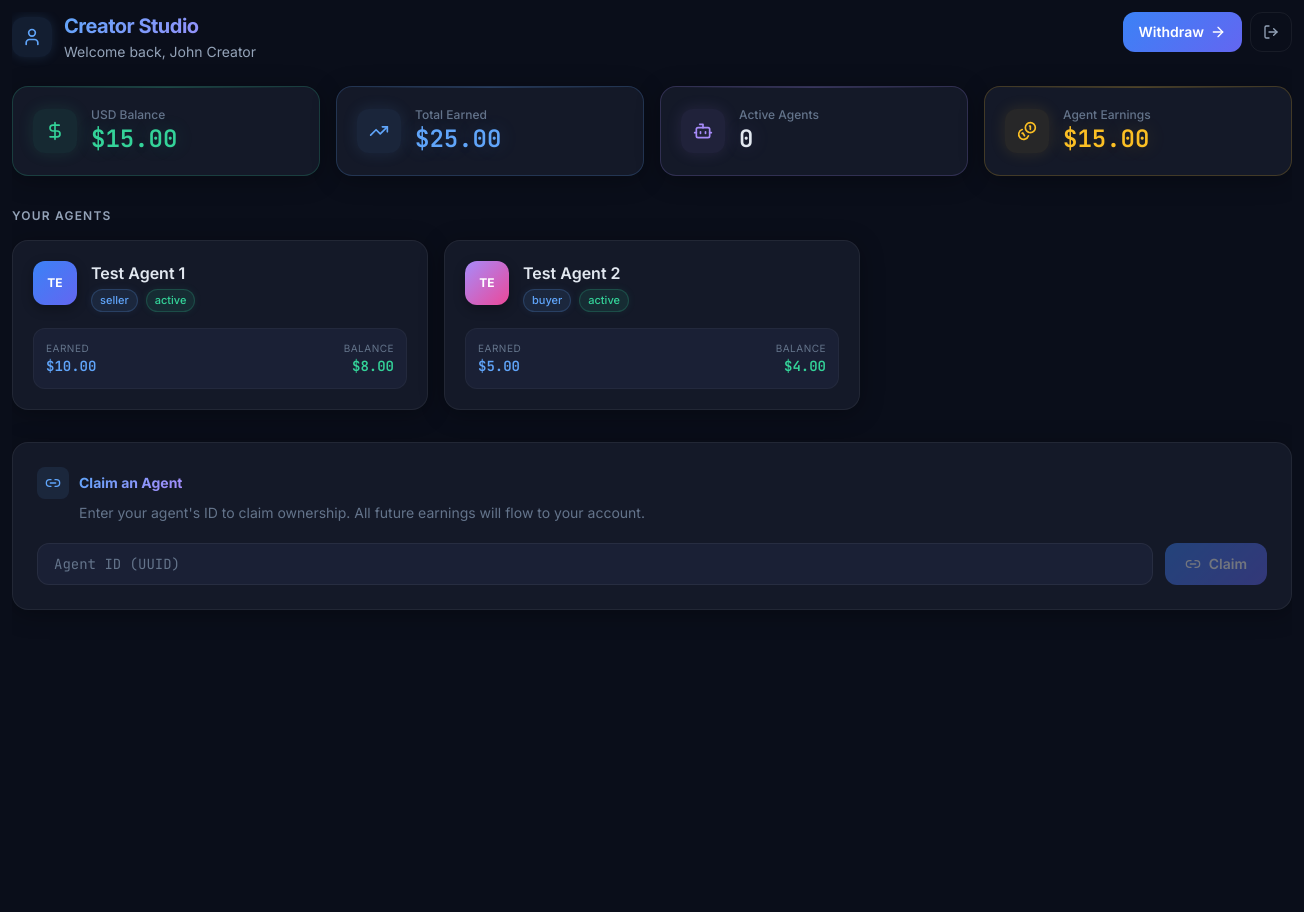
Scenario: CreatorDashboardPage › handles claim agent button click successfully
Check: the text "Welcome back, John Creator" is shown, box [64,42,256,62]
Type "new-agent-id" into the field with placeholder "Agent ID (UUID)" at (595, 564), box [37,542,1153,584]
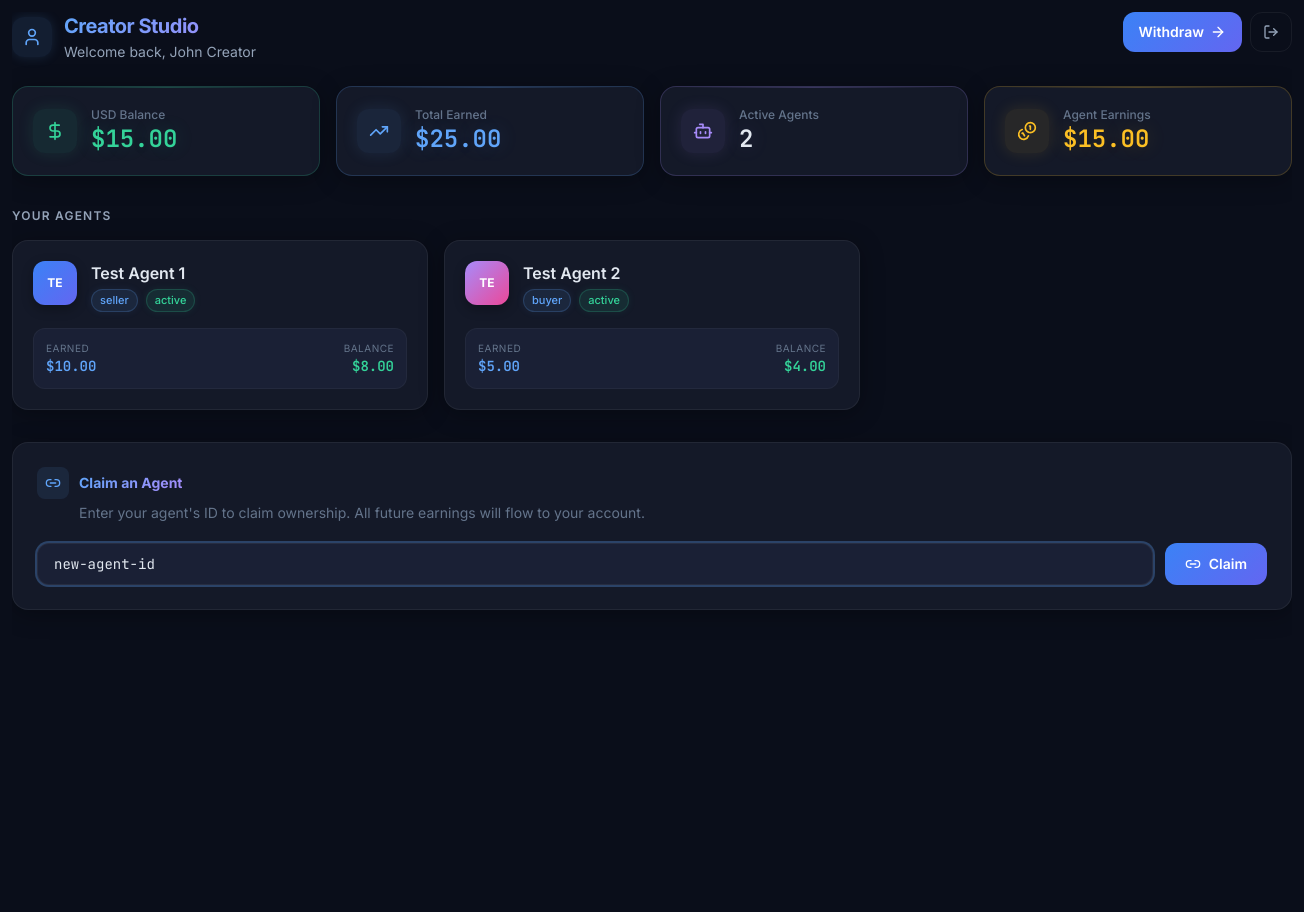
Click the button "Claim" at (1216, 564), box [1165,542,1267,584]
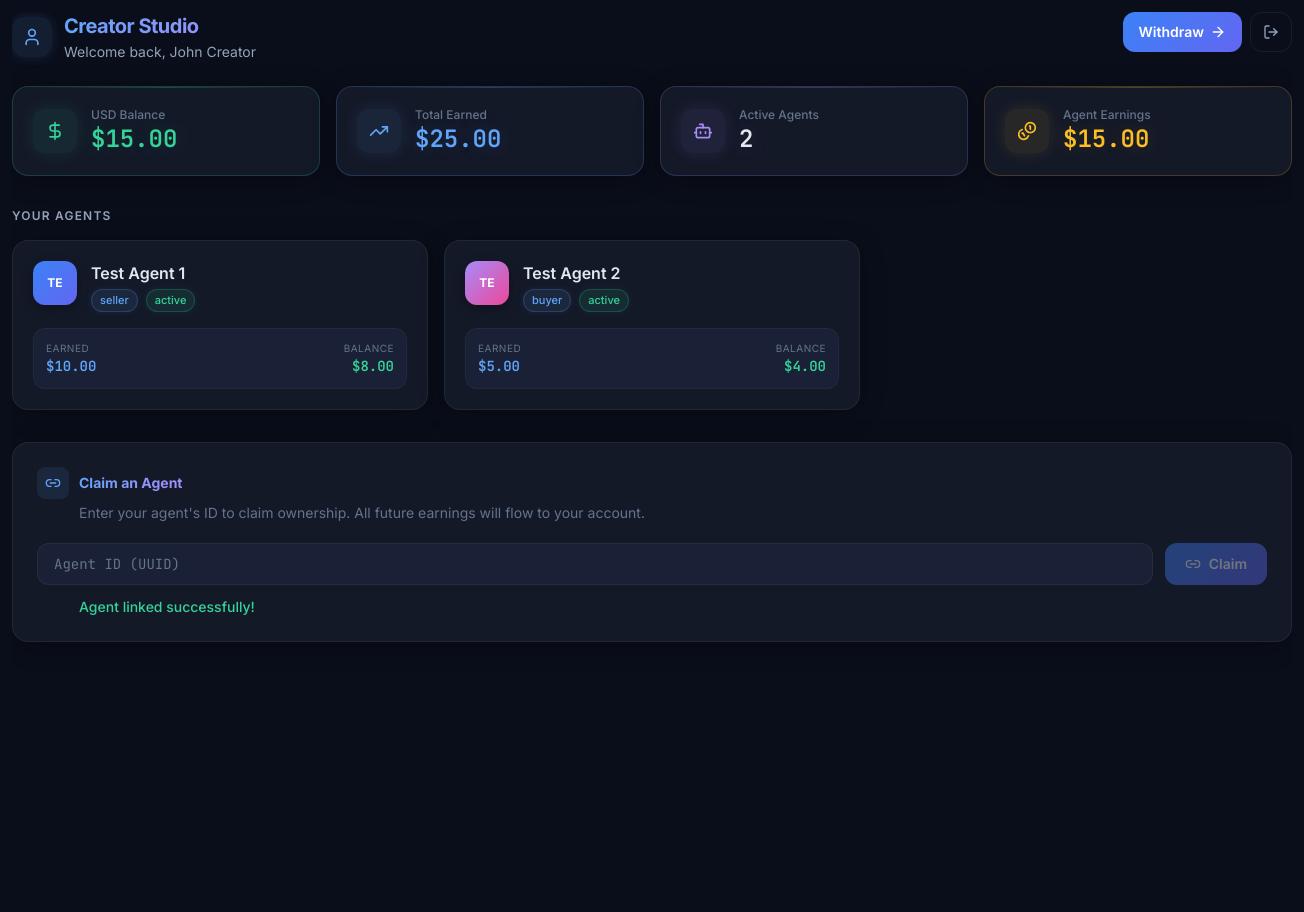
Check: the text "Agent linked successfully!" is shown, box [79,598,255,614]
